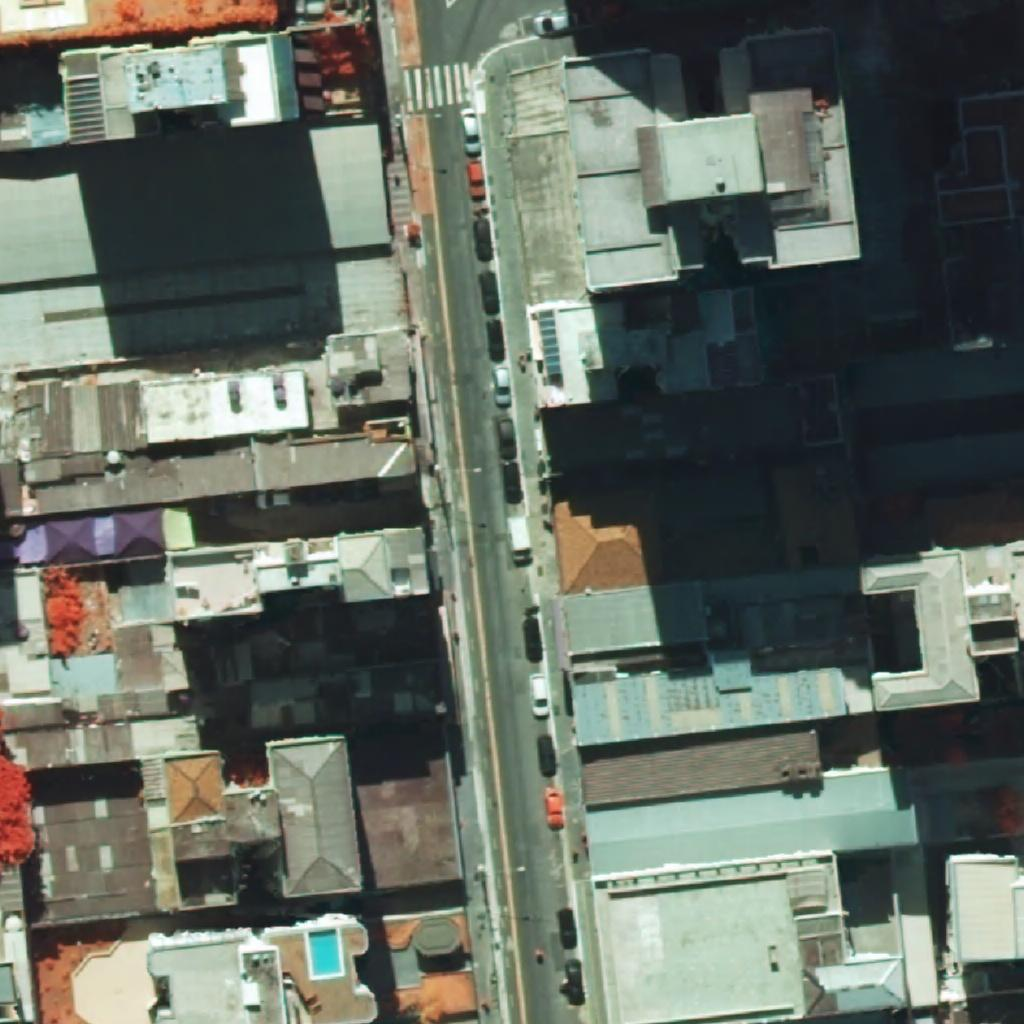pool: (309, 929, 341, 976)
